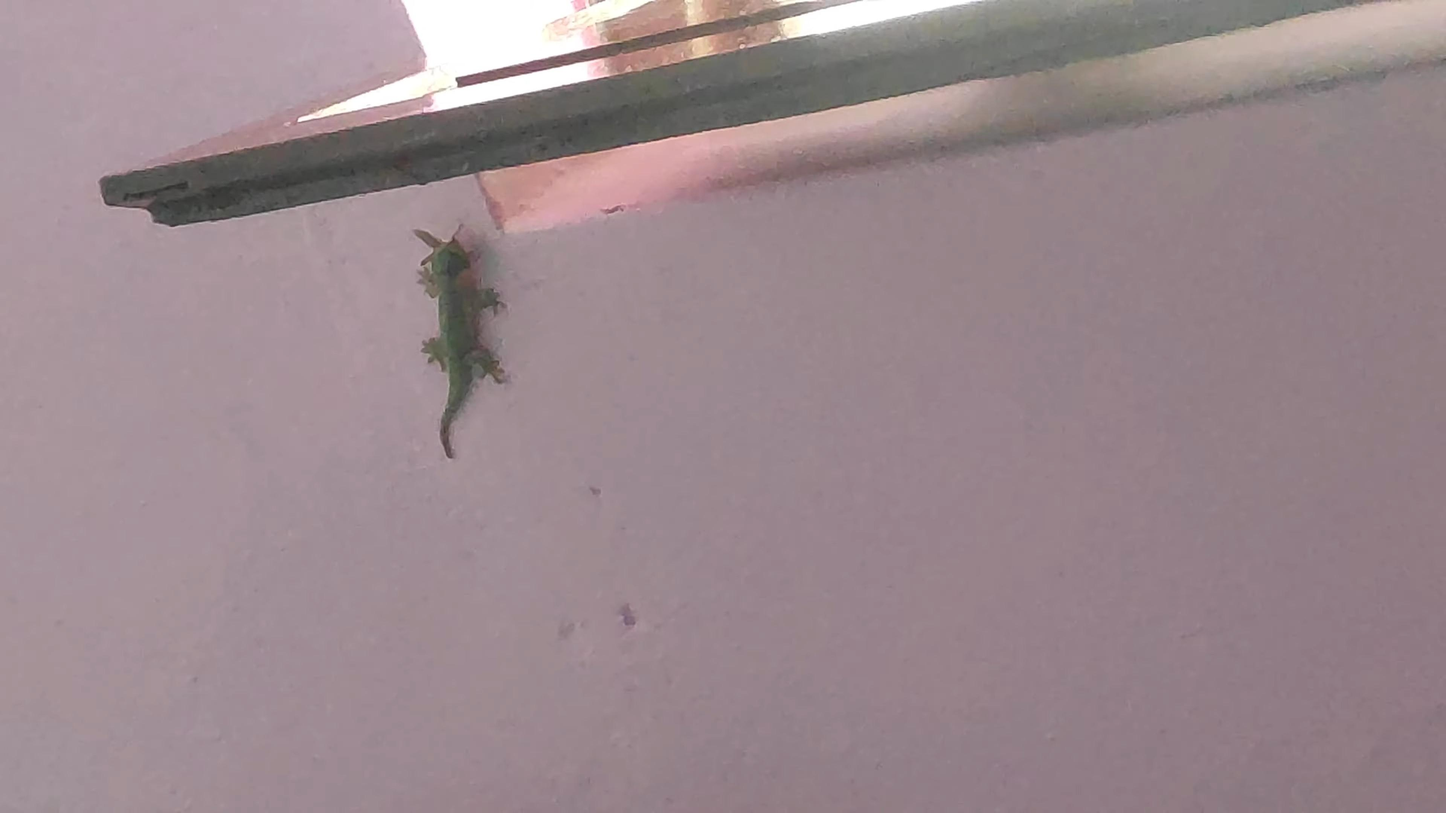lizard: (409, 221, 506, 459)
